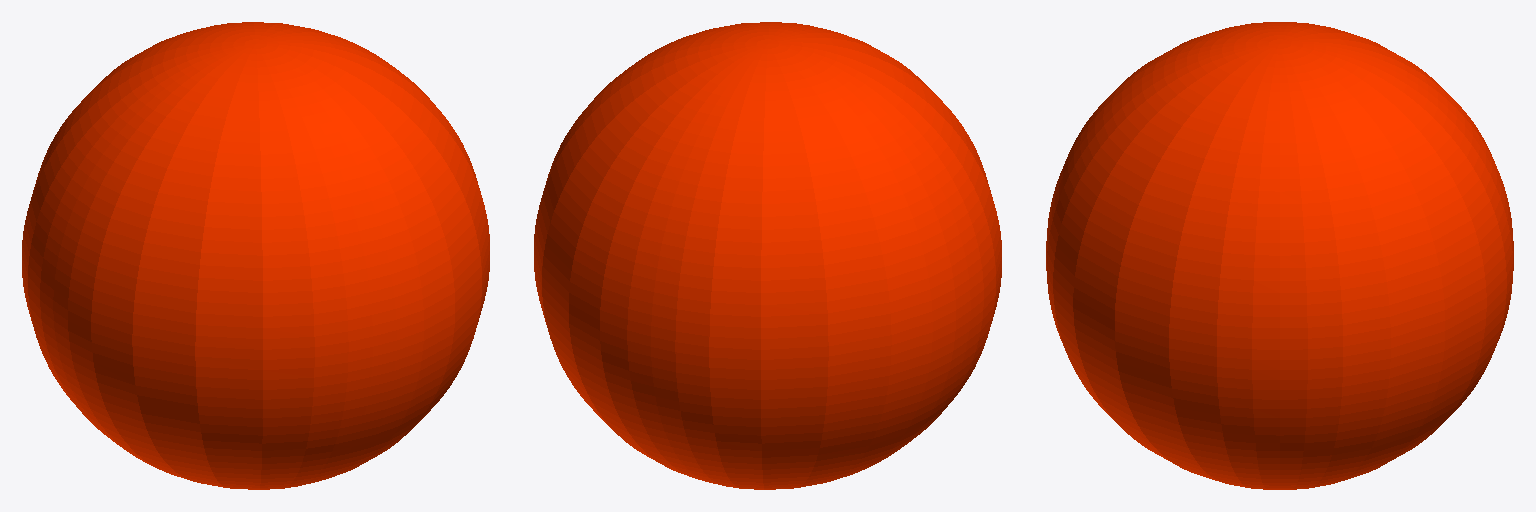
Rendered from ball.obj.
3 renders of one model, left to right at view 1: azimuth 30°, elevation 25°; view 2: azimuth 150°, elevation 25°; view 3: azimuth 270°, elevation 25°, orthographic.
Parts seen in each view (by area): view 1: SurfSphere; view 2: SurfSphere; view 3: SurfSphere.
Part boxes in pixels (bbox=[...]): SurfSphere: bbox=[22, 22, 489, 489]; SurfSphere: bbox=[534, 22, 1001, 489]; SurfSphere: bbox=[1046, 22, 1513, 489].
Size of the model in its own units: 0.04 by 0.04 by 0.04.